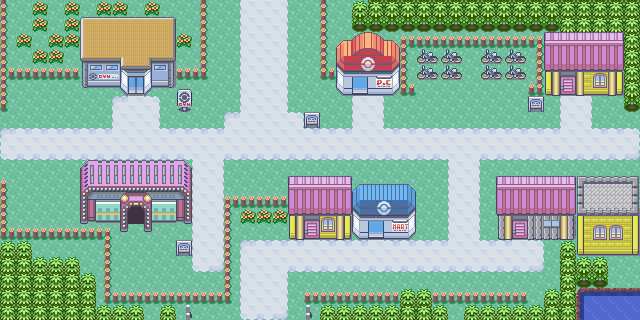gym: (78, 15, 178, 98)
misc: (77, 158, 196, 234)
normal_house: (493, 172, 578, 243), (541, 31, 627, 98), (286, 174, 352, 243)
pokemart: (353, 183, 418, 244)
pokemon_center: (334, 31, 404, 98)
